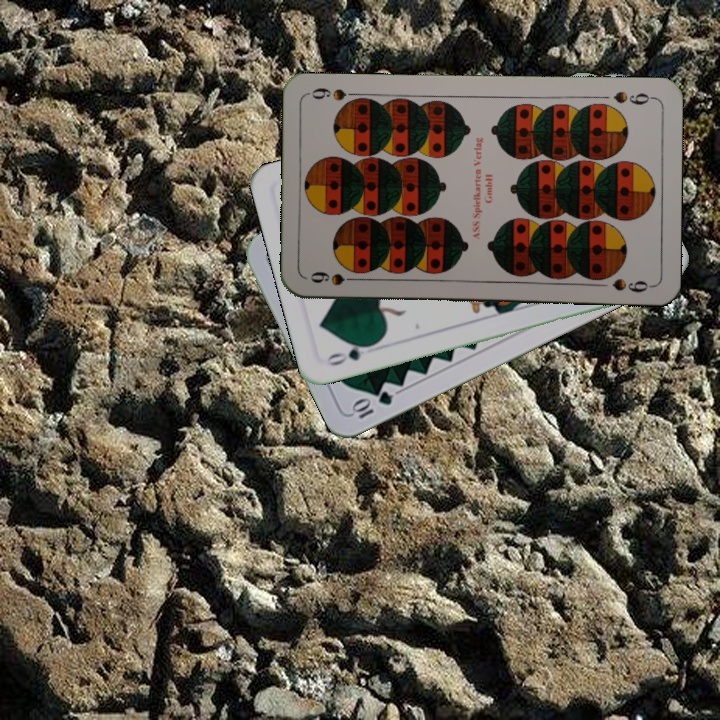G10: (346, 387, 395, 422)
GO: (323, 339, 379, 369)
S9: (306, 267, 364, 288), (609, 88, 657, 108)
